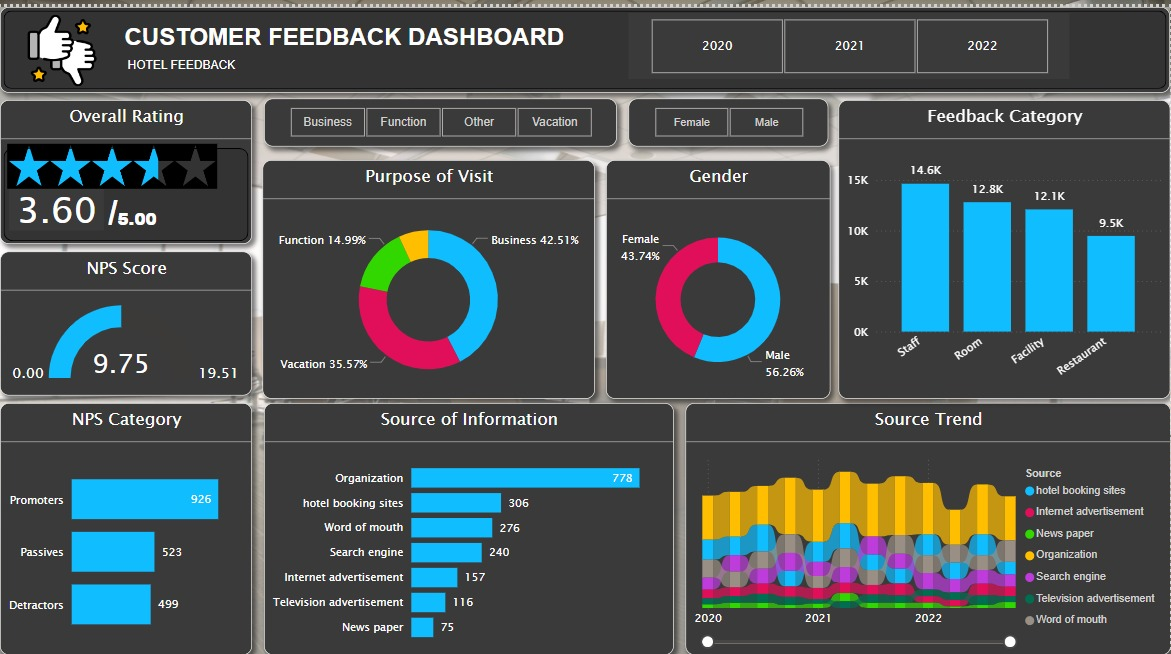

The page's visual inventory and layout, read from the dashboard file:
{"tool":"powerbi","page":{"name":"Page 1","canvas":[1300,720],"ordinal":0},"visuals":[{"type":"shape","box":[0,0,1300,95],"z":0},{"type":"shape","title":"Overall Rating","box":[0,103.8,280.1,160.3],"z":1000},{"type":"slicer","fields":{"Values":["General.Purpose"]},"box":[293.1,102.2,391.9,53.4],"z":2000},{"type":"slicer","fields":{"Values":["General.Gender"]},"box":[697.9,102.2,221.8,53.4],"z":3000},{"type":"gauge","fields":{"Y":["General.NPS Score"]},"box":[0,272.2,280.1,160.3],"z":4000},{"type":"clusteredBarChart","title":"NPS Category","fields":{"Category":["General.NPS"],"Y":["CountNonNull(General.NPS)"]},"box":[0,440.4,280.1,280.1],"z":5000},{"type":"donutChart","title":"Purpose of Visit","fields":{"Category":["General.Purpose"],"Y":["CountNonNull(General.Purpose)"]},"box":[291.5,170.2,369.2,265.6],"z":6000},{"type":"donutChart","title":"Gender","fields":{"Category":["General.Gender"],"Y":["CountNonNull(General.Gender)"]},"box":[673.6,170.2,249.4,265.6],"z":7000},{"type":"clusteredBarChart","title":"Source of Information","fields":{"Category":["General.Source"],"Y":["CountNonNull(General.Source)"]},"box":[293.1,440.4,455,280.1],"z":8000},{"type":"ribbonChart","title":"Source Trend","fields":{"Series":["General.Source"],"Y":["CountNonNull(General.Source)"],"Category":["General.Checkout Date (bins)"]},"box":[761,440.4,539.2,280.1],"z":9000},{"type":"clusteredColumnChart","title":"Feedback Category","fields":{"Category":["Feedback.Feedback","Feedback.Feedback Category"],"Y":["Sum(Feedback.Rating Score)"]},"box":[931.7,103.3,368.3,331.7],"z":10000},{"type":"card","fields":{"Values":["Avg(General.Overall Experience)"]},"box":[9.7,197.5,105.2,50.2],"z":11000},{"type":"textbox","box":[115,194.3,165.2,63.1],"z":12000},{"type":"clusteredBarChart","fields":{"Y":["Avg(General.Overall Experience)"]},"box":[5,86.2,193.8,178.8],"z":13000},{"type":"image","box":[0,146.2,248.8,60],"z":14000},{"type":"textbox","box":[133.3,12.8,525,40],"z":15000},{"type":"textbox","box":[136.1,52.2,291.7,25],"z":16000},{"type":"slicer","fields":{"Values":["General.Checkout Date.Variation.Date Hierarchy.Year"]},"box":[698.3,6.7,490,73.3],"z":17000},{"type":"image","box":[16.7,0,101.7,95],"z":18000}]}

Visuals, with their boxes in screenshot pixels (x1, y1, x2, y2), scaled from the page's 1300x720 canvas onto the 1171x654 screenshot:
shape: 0 0 1170 86
"Overall Rating" shape: 0 94 252 240
slicer - General.Purpose: 264 93 617 141
slicer - General.Gender: 629 93 828 141
gauge - General.NPS Score: 0 247 252 393
"NPS Category" clusteredBarChart: 0 400 252 653
"Purpose of Visit" donutChart: 263 155 595 396
"Gender" donutChart: 607 155 831 396
"Source of Information" clusteredBarChart: 264 400 674 653
"Source Trend" ribbonChart: 685 400 1170 653
"Feedback Category" clusteredColumnChart: 839 94 1170 395
card - Avg(General.Overall Experience): 9 179 103 225
textbox: 104 176 252 234
clusteredBarChart - Avg(General.Overall Experience): 5 78 179 241
image: 0 133 224 187
textbox: 120 12 593 48
textbox: 123 47 385 70
slicer - General.Checkout Date.Variation.Date Hierarchy.Year: 629 6 1070 73
image: 15 0 107 86
